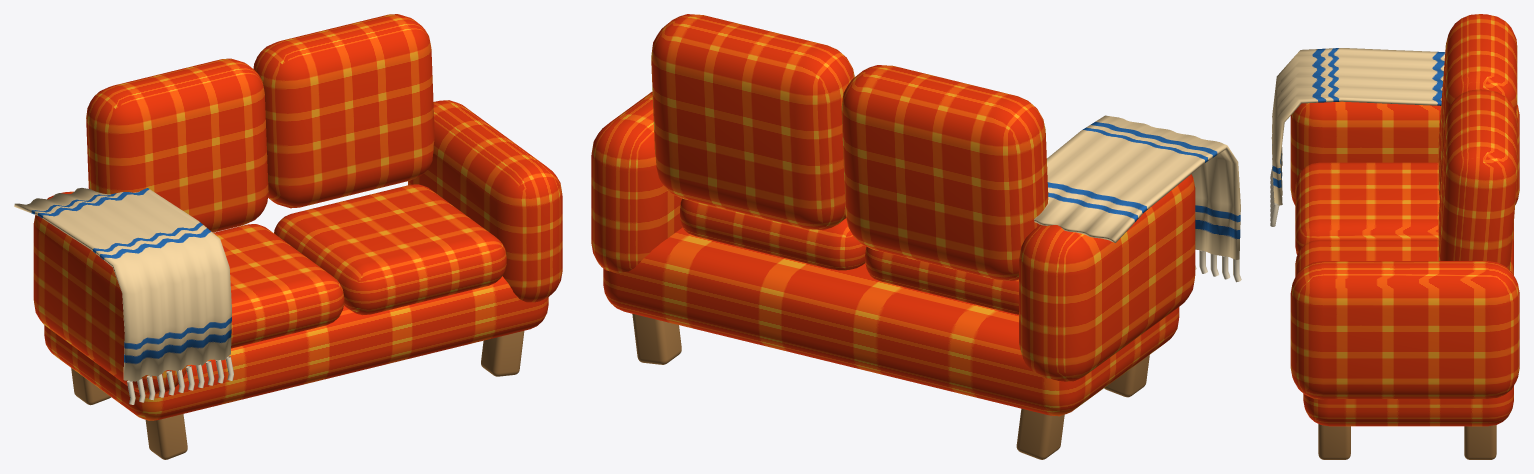
The model's file is easy_couch_06.fbx.
3 renders of one model, left to right at view 1: azimuth 30°, elevation 25°; view 2: azimuth 150°, elevation 25°; view 3: azimuth 270°, elevation 25°, orthographic. The views are drawn at different scales.
Parts seen in each view (by area): view 1: EC06_LOD0; view 2: EC06_LOD0; view 3: EC06_LOD0.
Boxes of the visible parts, x1,y1,x2,y2 form: EC06_LOD0: (14, 14, 562, 459); EC06_LOD0: (591, 14, 1241, 459); EC06_LOD0: (1270, 14, 1519, 459).
Size of what is drawn, in the model's own units: 2.22 by 1.42 by 1.08.
Materials: 4 (2 with a texture image).
